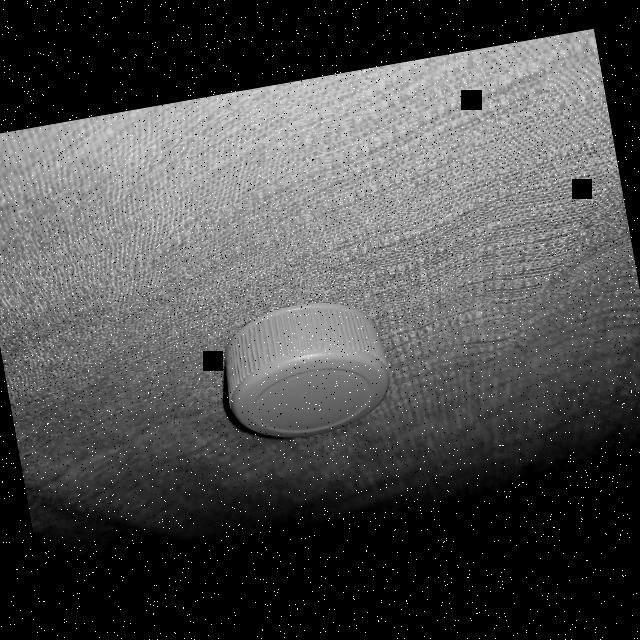plastic_bottle_cap: (214, 290, 398, 448)
